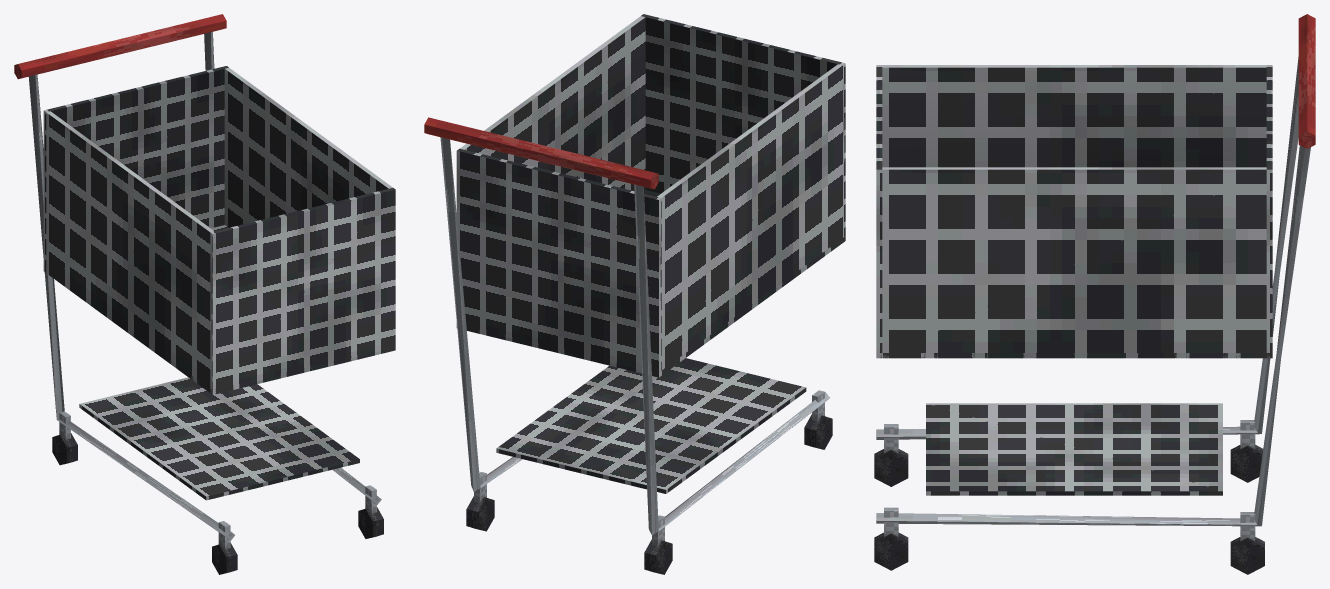
The model's file is shopping_cart.glb.
3 renders of one model, left to right at view 1: azimuth 30°, elevation 25°; view 2: azimuth 150°, elevation 25°; view 3: azimuth 270°, elevation 25°, orthographic. The views are drawn at different scales.
Parts seen in each view (by area): view 1: shopping_cart; view 2: shopping_cart; view 3: shopping_cart.
Boxes of the visible parts, <box> form: shopping_cart: <box>14,14,395,574</box>; shopping_cart: <box>424,14,845,574</box>; shopping_cart: <box>874,14,1315,574</box>.
Bounding box in the file's own units: 0.56 × 1.01 × 0.892.
Materials: 1 (1 with a texture image).
